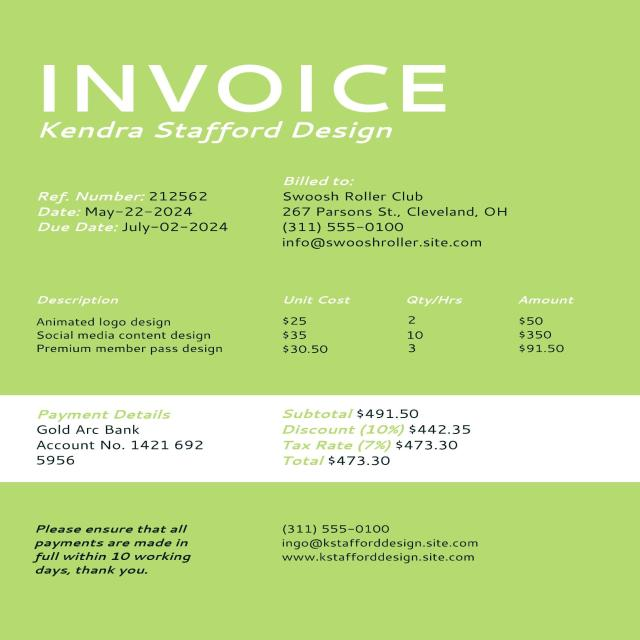paragraph: (28, 53, 464, 117), (267, 172, 551, 261), (271, 398, 508, 492), (8, 393, 219, 483), (267, 515, 500, 587), (20, 509, 210, 595), (25, 181, 242, 244), (28, 119, 436, 150)
table: (21, 289, 596, 379)
